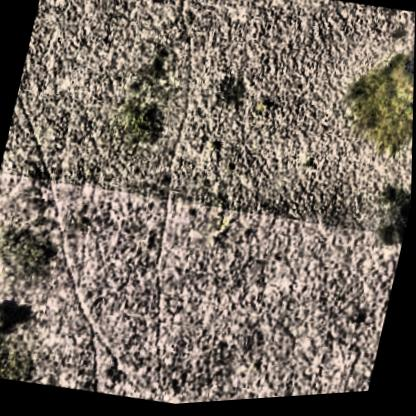tree-top: (332, 47, 415, 168), (376, 190, 412, 249), (0, 294, 15, 358)
